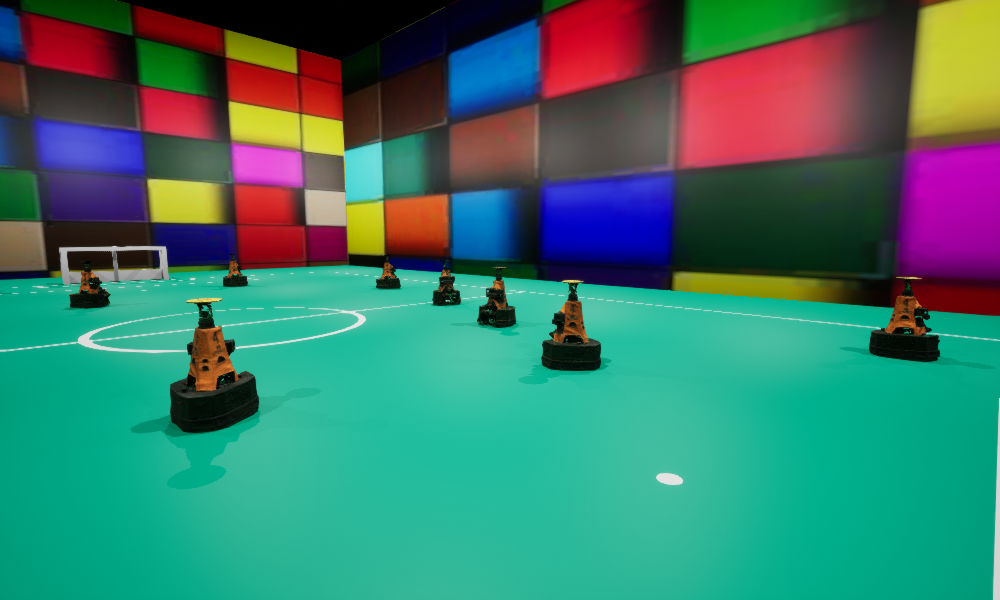o: (170, 298, 258, 432), (869, 277, 939, 361), (541, 280, 600, 370), (477, 267, 515, 326), (69, 261, 110, 308), (432, 260, 460, 305), (376, 255, 400, 288), (223, 254, 247, 286)
